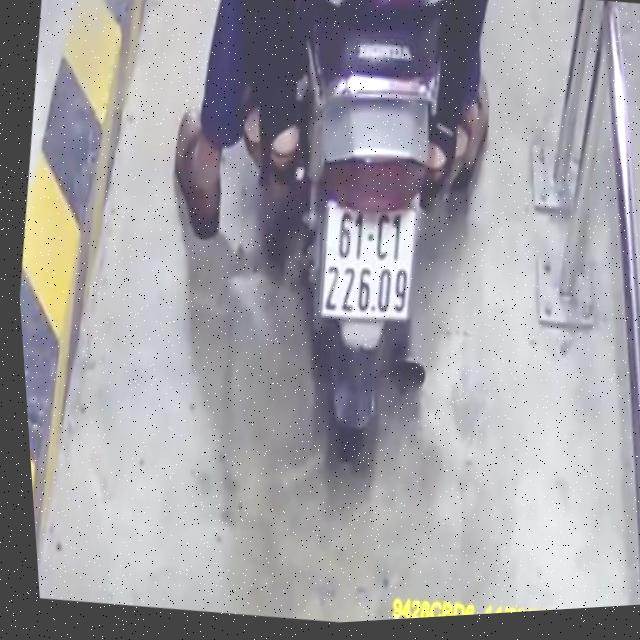motorcycle: (207, 0, 512, 517)
plate: (300, 183, 438, 335)
